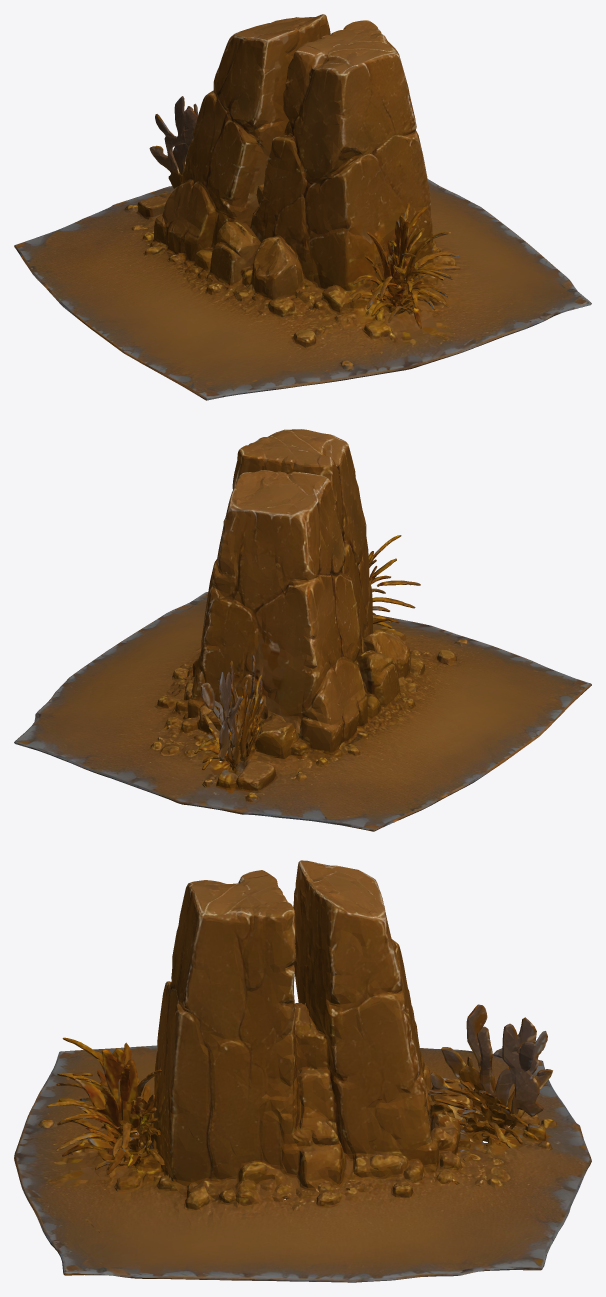
File: desert-big-rock-3.glb
3 renders of one model, top to bottom at view 1: azimuth 30°, elevation 25°; view 2: azimuth 150°, elevation 25°; view 3: azimuth 270°, elevation 25°, orthographic. The views are drawn at different scales.
Parts seen in each view (by area): view 1: textured_mesh.obj; view 2: textured_mesh.obj; view 3: textured_mesh.obj.
Boxes of the visible parts, <box> form: textured_mesh.obj: <box>14,14,591,400</box>; textured_mesh.obj: <box>14,429,591,831</box>; textured_mesh.obj: <box>14,860,591,1282</box>.
Size of the model in its own units: 1.94 by 1.1 by 1.99.
Materials: 1 (1 with a texture image).
